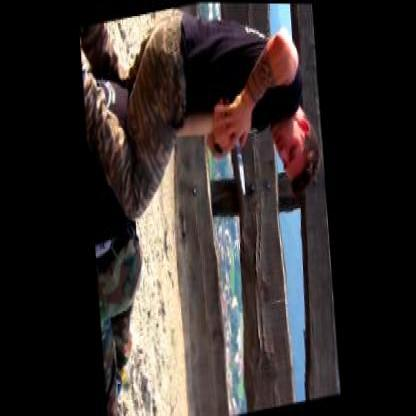knife: (227, 112, 251, 206)
